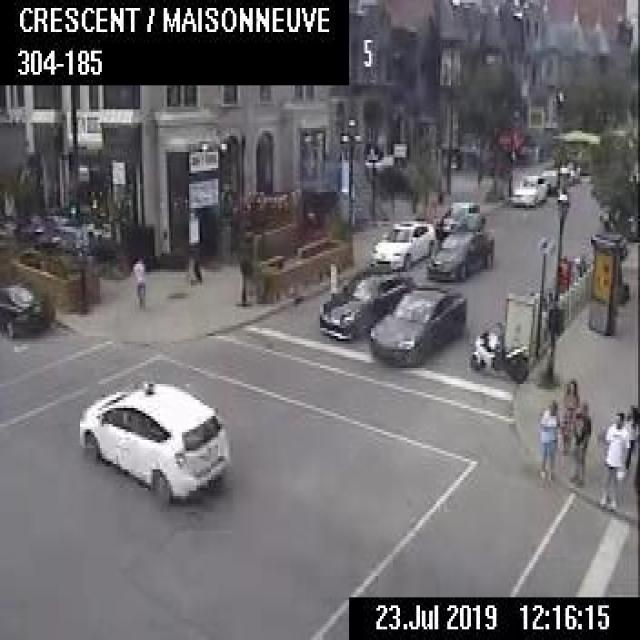pedestrian: (598, 407, 630, 509), (535, 397, 559, 481), (569, 400, 589, 484), (558, 377, 579, 453), (624, 400, 638, 488), (130, 248, 145, 307), (189, 235, 202, 282)
vehicle: (77, 373, 230, 504), (369, 284, 465, 366), (318, 263, 412, 339), (425, 228, 493, 279), (369, 217, 434, 270), (468, 325, 529, 381), (0, 280, 55, 336), (435, 196, 485, 238), (509, 173, 549, 207), (539, 167, 565, 193)
